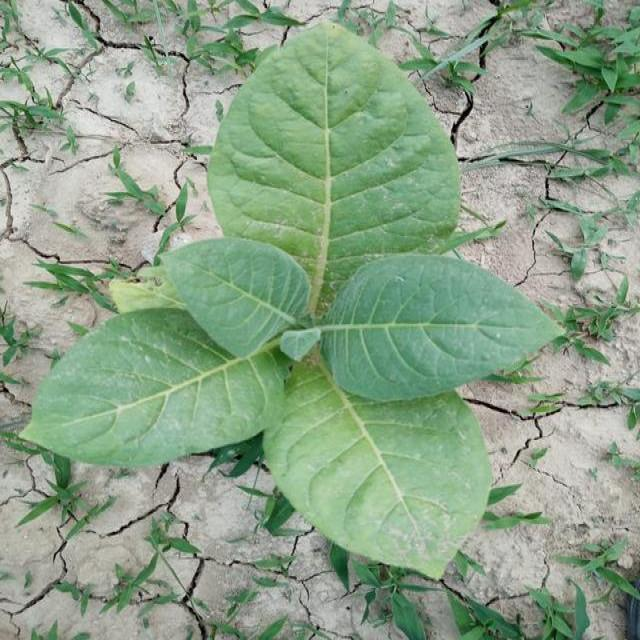crop: (42, 22, 543, 575)
